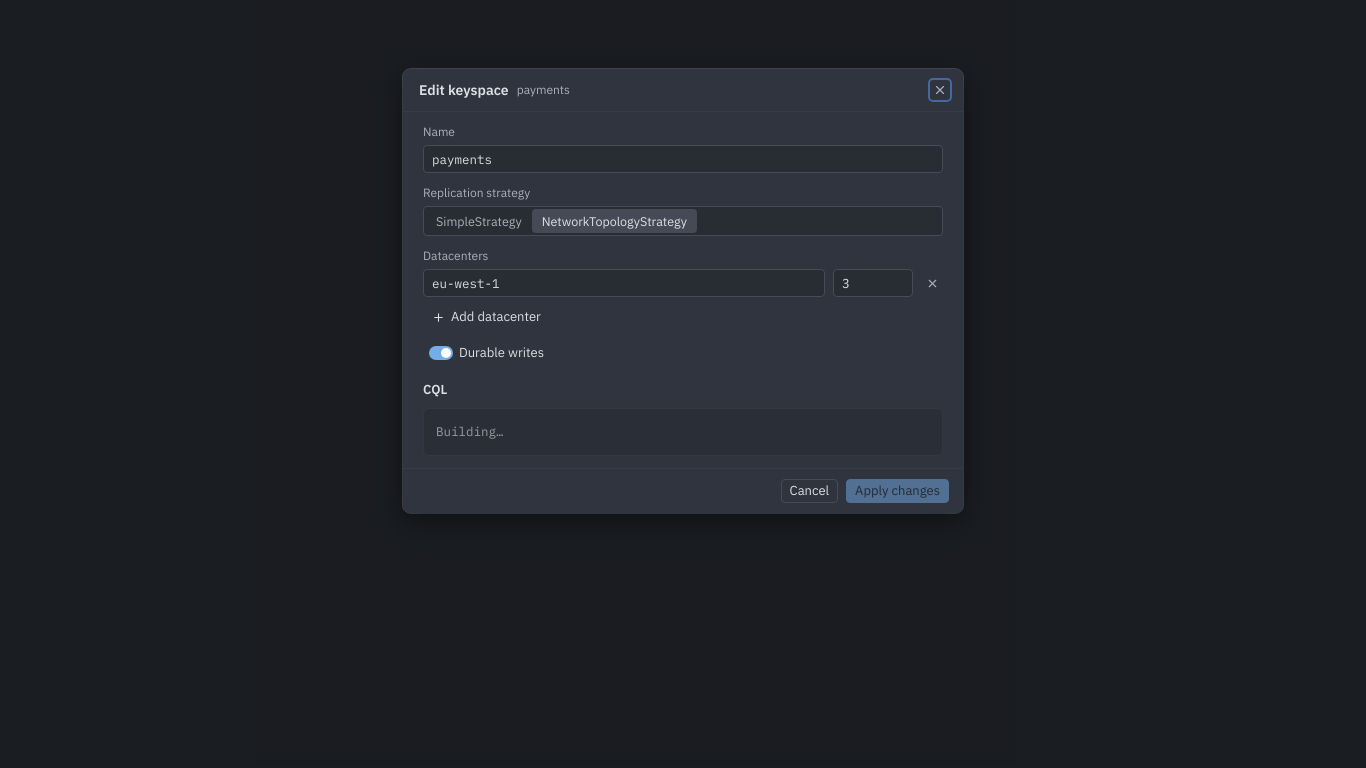
Test case: EditKeyspaceDialog › previews a durable-writes-only change
Click the switch "Durable writes".
click(486, 354)  # box [423, 342, 550, 366]
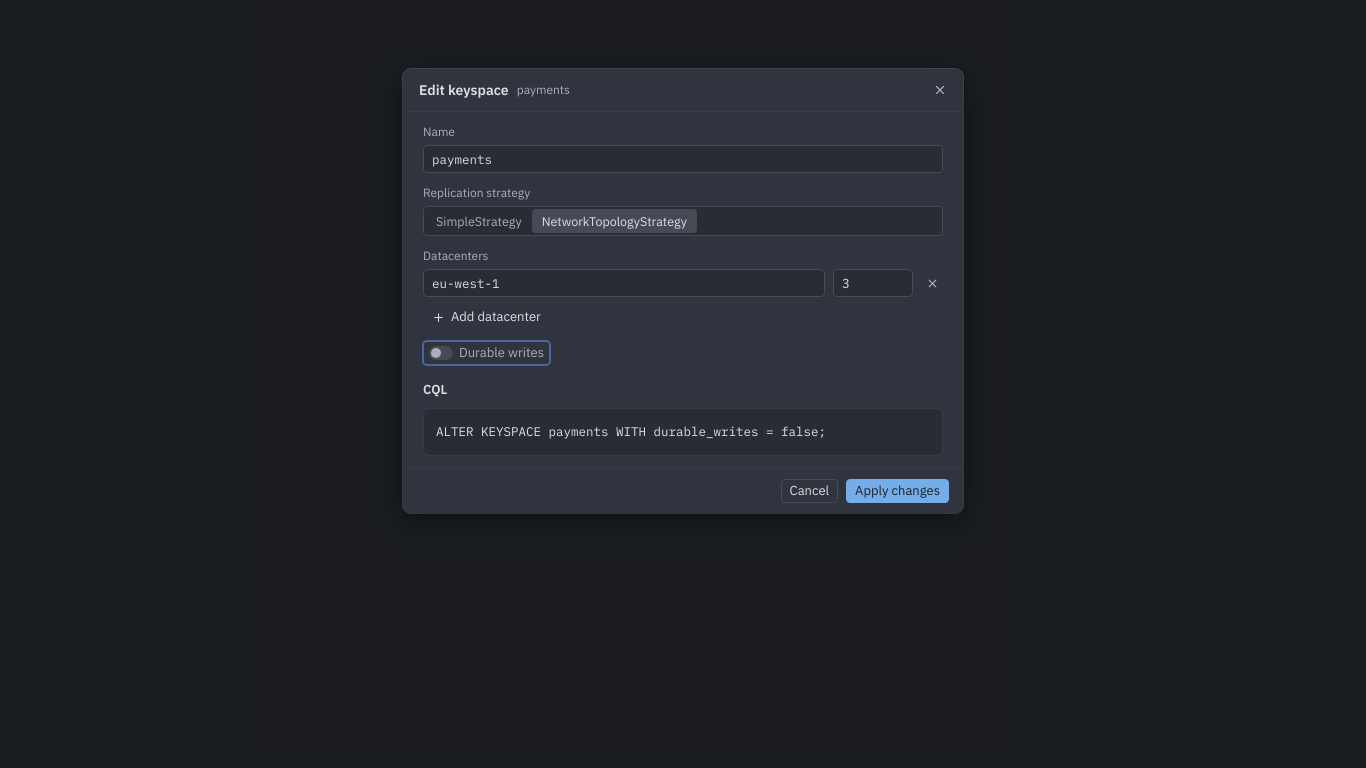
Expected: the text "ALTER KEYSPACE payments WITH durable_writes = false;" is shown, [423, 408, 943, 456]
